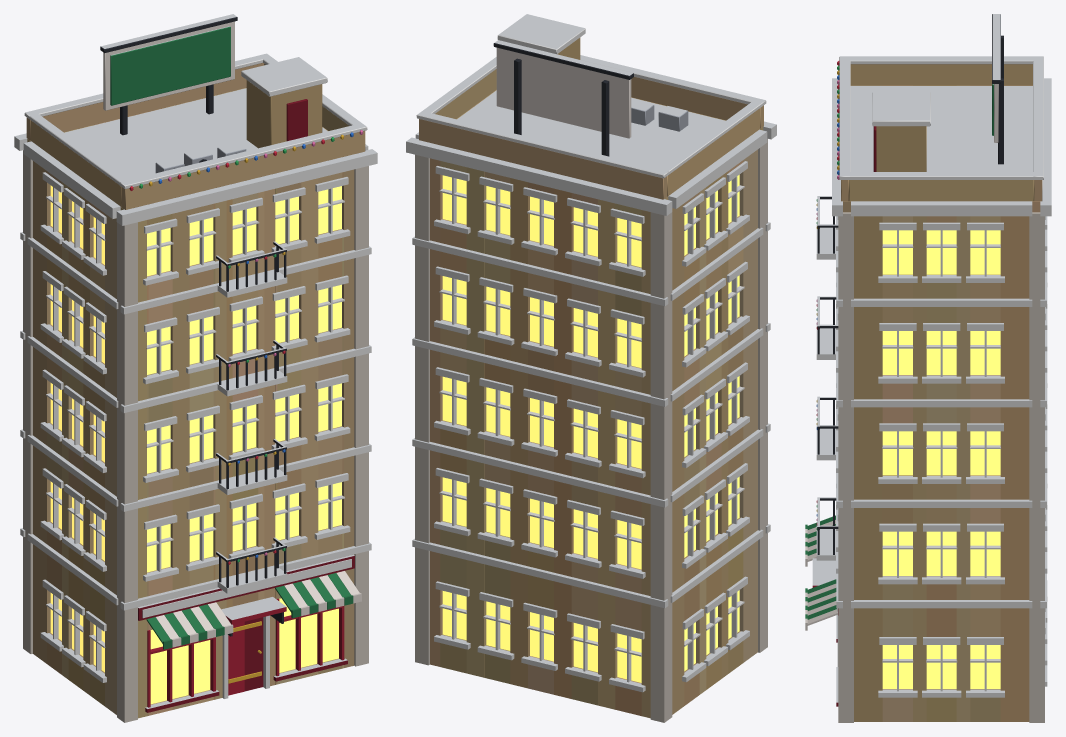
The model's file is Apartment_Cream.glb.
The picture shows the model from 3 angles, left to right: view 1: azimuth 30°, elevation 25°; view 2: azimuth 150°, elevation 25°; view 3: azimuth 270°, elevation 25°; orthographic projection. The views are drawn at different scales.
Visible parts, largest first — view 1: Apartment_Cream_Walls, Apartment_Cream_Trim, Apartment_Cream_Roof, Apartment_Cream_Glow, Apartment_Cream_Shopfront, Apartment_Cream_Balconies, Apartment_Cream_Lights; view 2: Apartment_Cream_Walls, Apartment_Cream_Trim, Apartment_Cream_Roof, Apartment_Cream_Glow; view 3: Apartment_Cream_Walls, Apartment_Cream_Trim, Apartment_Cream_Roof, Apartment_Cream_Glow, Apartment_Cream_Balconies, Apartment_Cream_Shopfront, Apartment_Cream_Lights.
Part boxes in pixels (left/top/right/bottom): Apartment_Cream_Walls: left=27, top=88, right=354, bottom=718; Apartment_Cream_Trim: left=14, top=133, right=377, bottom=722; Apartment_Cream_Roof: left=24, top=14, right=367, bottom=209; Apartment_Cream_Glow: left=50, top=185, right=341, bottom=704; Apartment_Cream_Shopfront: left=138, top=554, right=361, bottom=698; Apartment_Cream_Balconies: left=216, top=241, right=287, bottom=593; Apartment_Cream_Lights: left=129, top=130, right=363, bottom=564; Apartment_Cream_Walls: left=430, top=90, right=763, bottom=718; Apartment_Cream_Trim: left=406, top=121, right=776, bottom=722; Apartment_Cream_Roof: left=416, top=14, right=766, bottom=199; Apartment_Cream_Glow: left=442, top=174, right=739, bottom=682; Apartment_Cream_Walls: left=843, top=85, right=1040, bottom=721; Apartment_Cream_Trim: left=832, top=78, right=1051, bottom=722; Apartment_Cream_Roof: left=839, top=14, right=1043, bottom=201; Apartment_Cream_Glow: left=882, top=230, right=1000, bottom=688; Apartment_Cream_Balconies: left=816, top=196, right=838, bottom=560; Apartment_Cream_Shopfront: left=805, top=515, right=838, bottom=666; Apartment_Cream_Lights: left=816, top=61, right=839, bottom=530.
Bounding box in the file's own units: 29.8 × 67.45 × 24.42.
